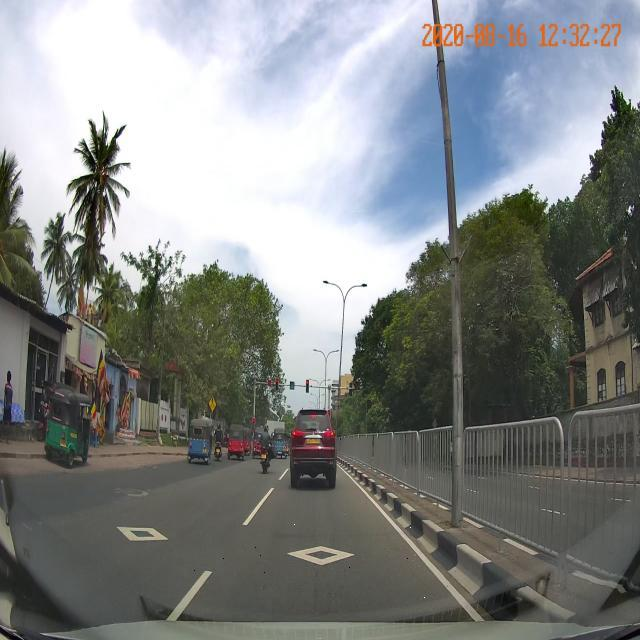diamond: (177, 521, 475, 599)
